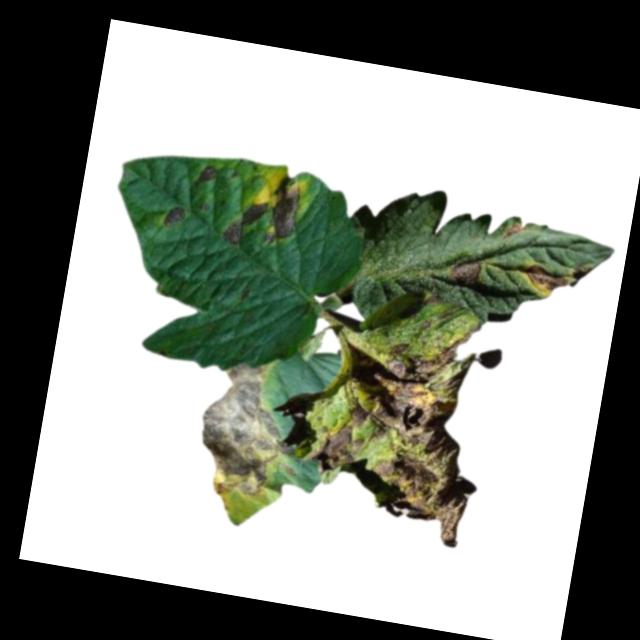Early_blight: (310, 326, 491, 547), (195, 356, 294, 505), (218, 167, 305, 254), (517, 262, 570, 298), (446, 253, 483, 284), (160, 201, 187, 229), (503, 219, 525, 243), (192, 162, 216, 184), (421, 290, 446, 309)
